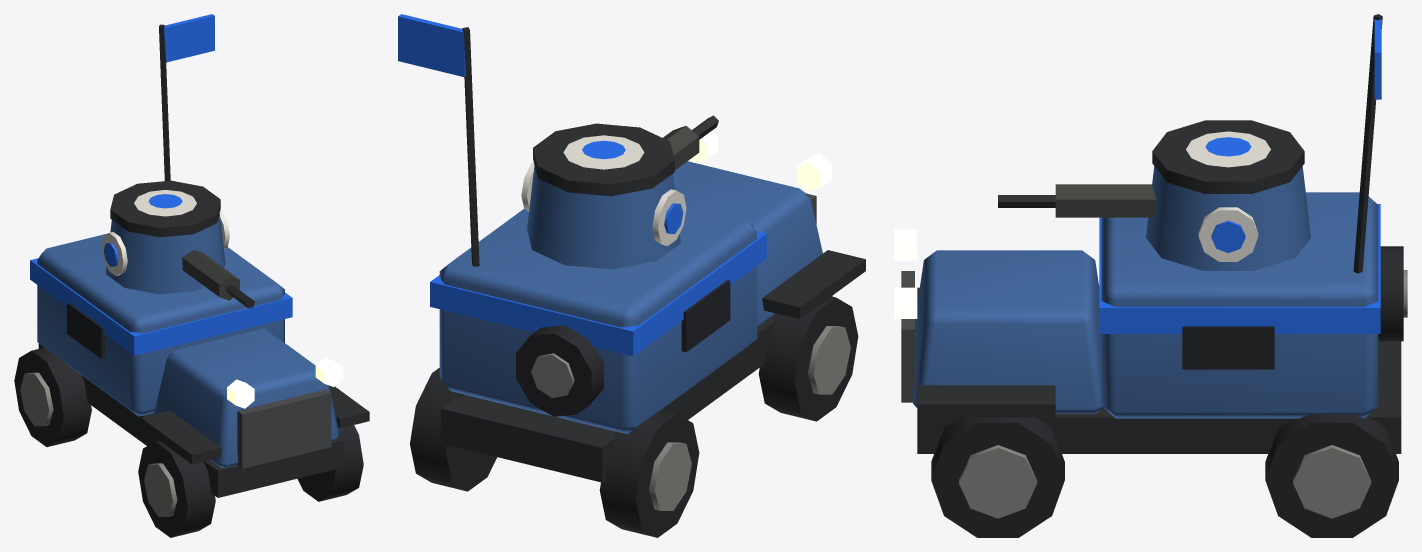
Rendered from assault_dl5_blue.glb.
3 views of the same model, side by side, from view 1: azimuth 30°, elevation 25°; view 2: azimuth 150°, elevation 25°; view 3: azimuth 270°, elevation 25° (orthographic). The views are drawn at different scales.
Visible parts, largest first — view 1: assault_dl5_blue; view 2: assault_dl5_blue; view 3: assault_dl5_blue.
Part boxes in pixels (box(x1,y1,x2,y2)): assault_dl5_blue: box(14, 14, 369, 537); assault_dl5_blue: box(398, 14, 865, 537); assault_dl5_blue: box(894, 14, 1407, 537).
Size of the model in its own units: 0.265 by 0.4774 by 0.4455.
Materials: 2 (1 with a texture image).
